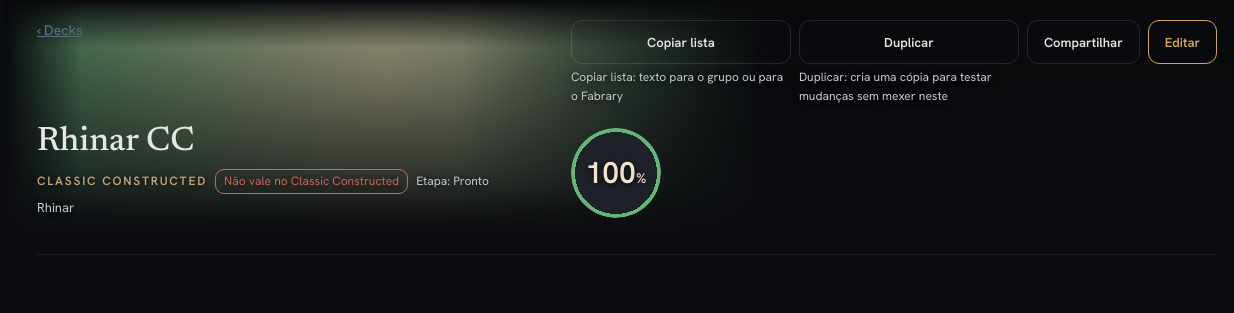
Scenario: DeckDetailLayout — getting the list out › says so when the copy could not be made, and stays on the deck
The width and height of the screenshot is (1234, 313).
Click the button "Duplicar" at {"x": 909, "y": 42}, box [799,20,1019,64]
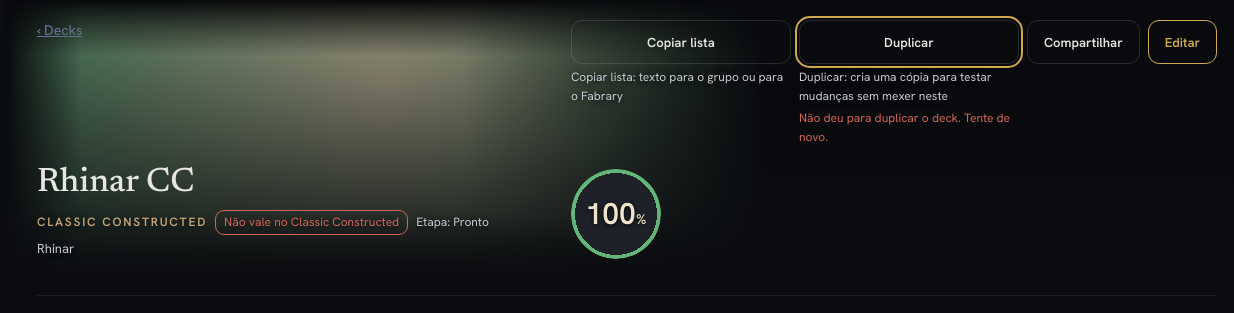
Expected: the message reads "Não deu para duplicar o deck. Tente de novo.", [799,110,1010,145]
